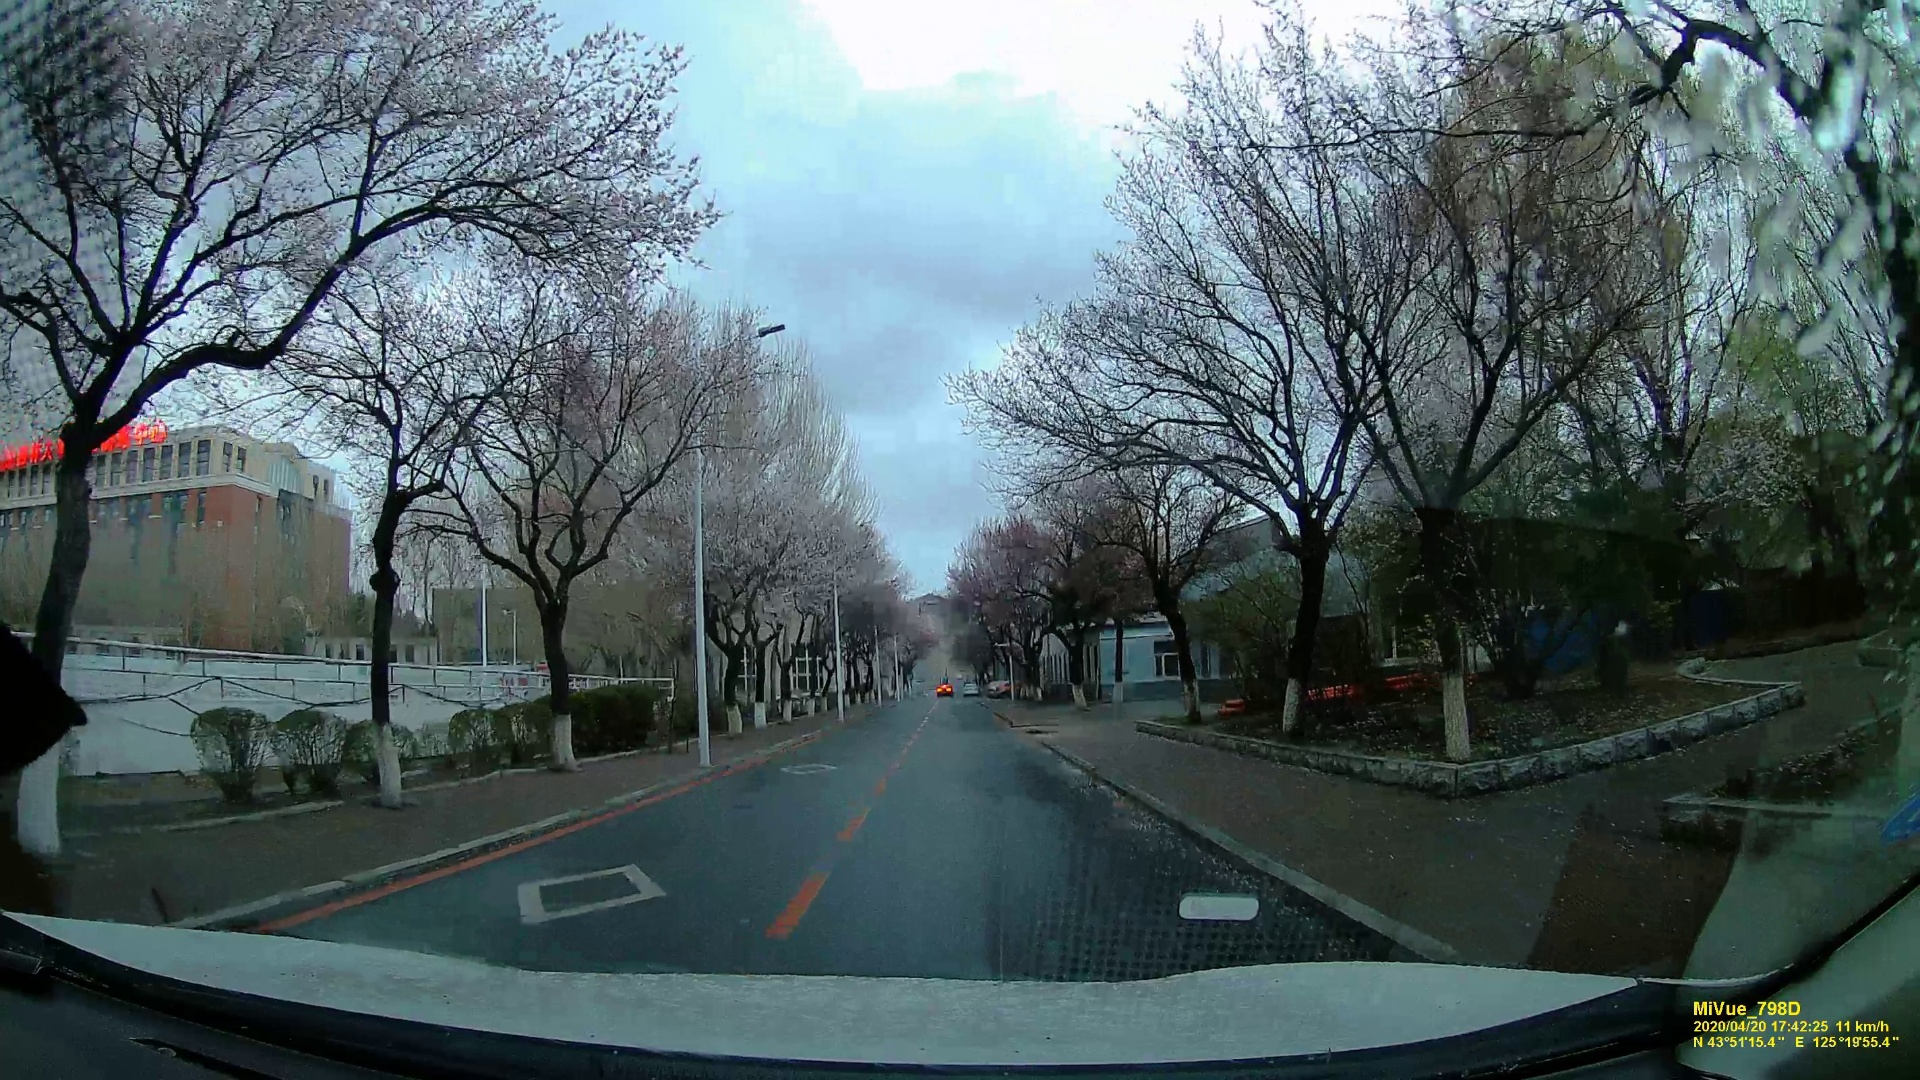vehicle: (934, 683, 952, 699), (963, 683, 978, 696)
